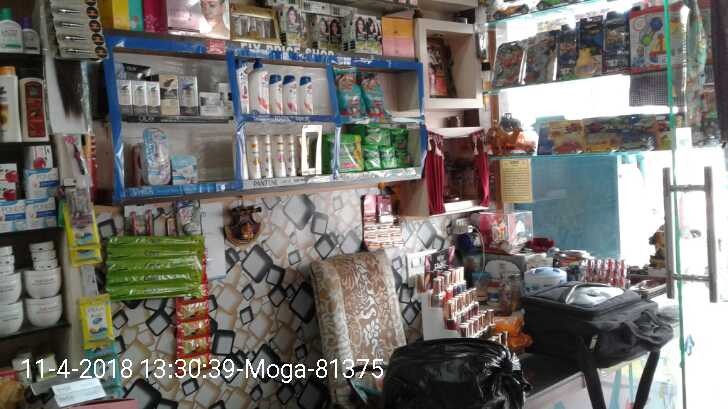venus: (144, 128, 170, 183), (173, 155, 197, 183)
